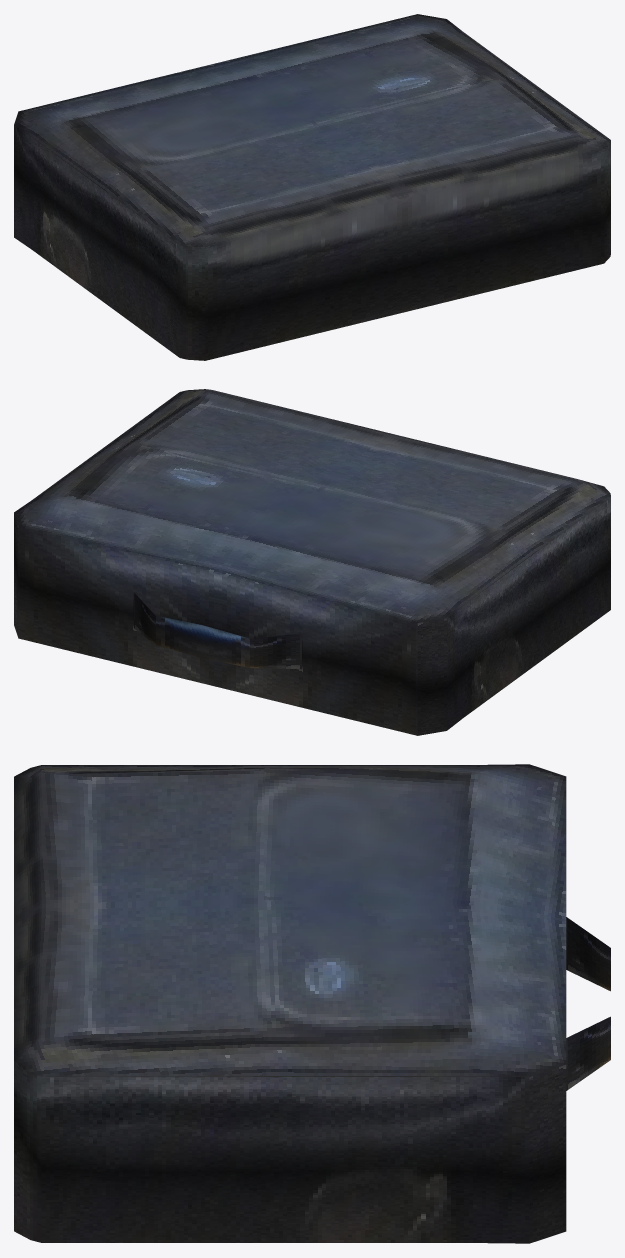
The model's file is bag.glb.
The picture shows the model from 3 angles, top to bottom: view 1: azimuth 30°, elevation 25°; view 2: azimuth 150°, elevation 25°; view 3: azimuth 270°, elevation 25°; orthographic projection. The views are drawn at different scales.
Visible parts, largest first — view 1: bag.001; view 2: bag.001; view 3: bag.001.
Boxes of the visible parts, x1=… form: bag.001: x1=14, y1=14, x2=610, y2=360; bag.001: x1=14, y1=389, x2=610, y2=735; bag.001: x1=14, y1=764, x2=610, y2=1243.
Bounding box in the file's own units: 0.8032 × 0.2238 × 0.6485.
1 material, 1 textured.
